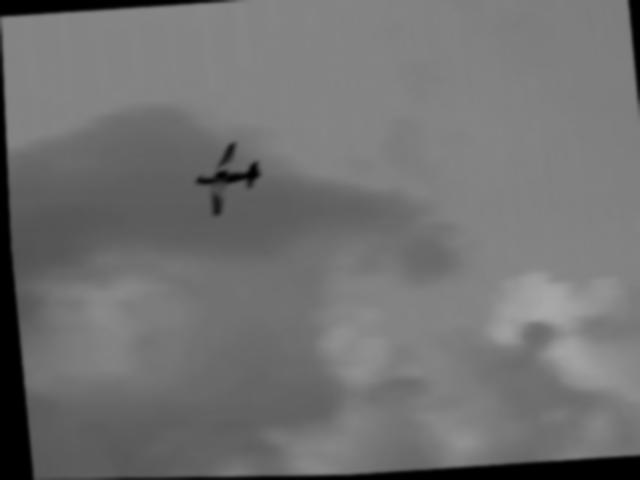hedef: (182, 129, 270, 227)
